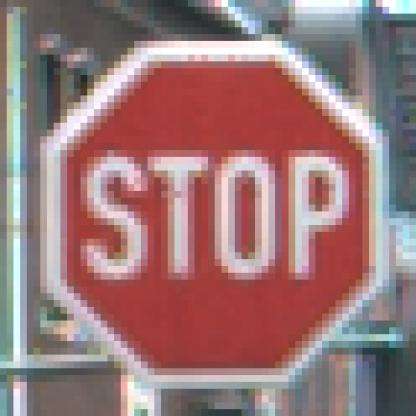stop: (26, 32, 398, 393)
